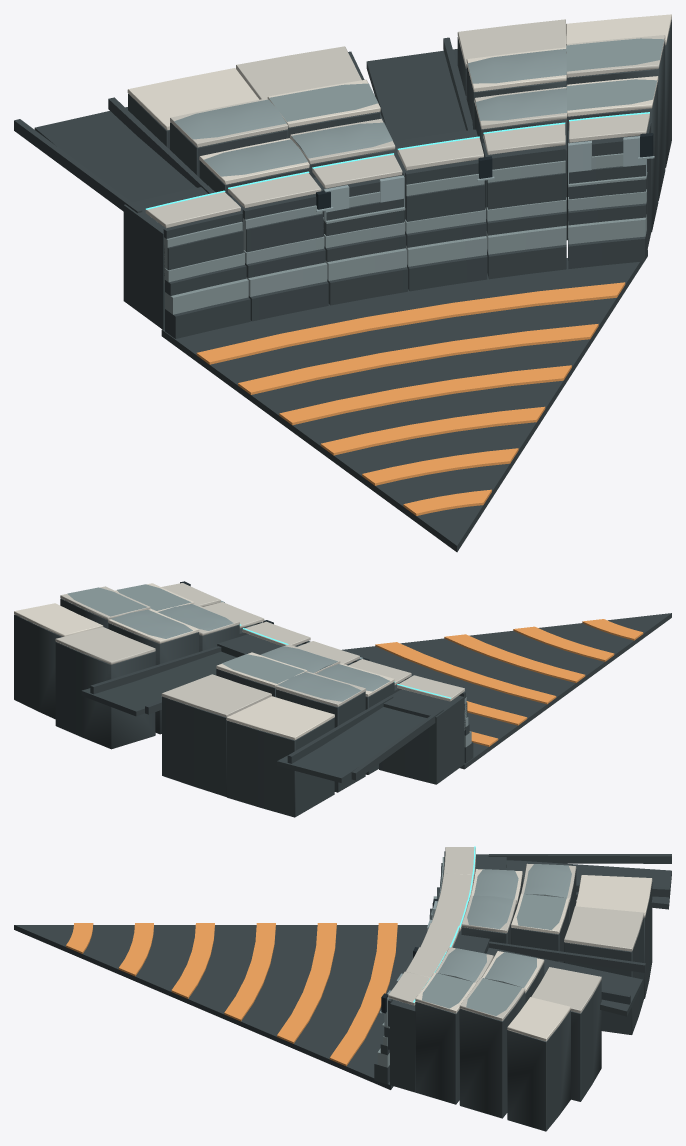
File: Weather_Lung_Sector_02_Structure.glb
3 renders of one model, top to bottom at view 1: azimuth 30°, elevation 25°; view 2: azimuth 150°, elevation 25°; view 3: azimuth 270°, elevation 25°, orthographic. The views are drawn at different scales.
Parts seen in each view (by area): view 1: Weather_Lung_Sector_02_Structure; view 2: Weather_Lung_Sector_02_Structure; view 3: Weather_Lung_Sector_02_Structure.
Part boxes in pixels (bbox=[...]): Weather_Lung_Sector_02_Structure: bbox=[14, 14, 671, 552]; Weather_Lung_Sector_02_Structure: bbox=[14, 581, 671, 817]; Weather_Lung_Sector_02_Structure: bbox=[14, 846, 671, 1131].
Size of the model in its own units: 6417 by 1575 by 8619.
